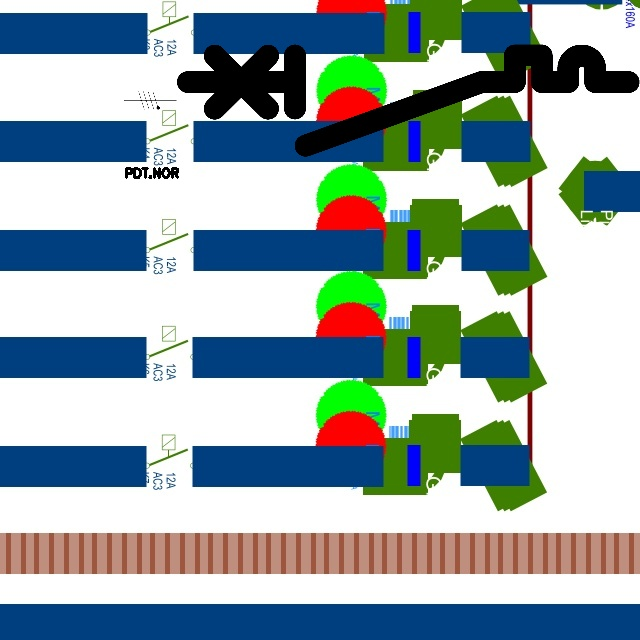interruptor_termomagnetico: (176, 44, 640, 157)
